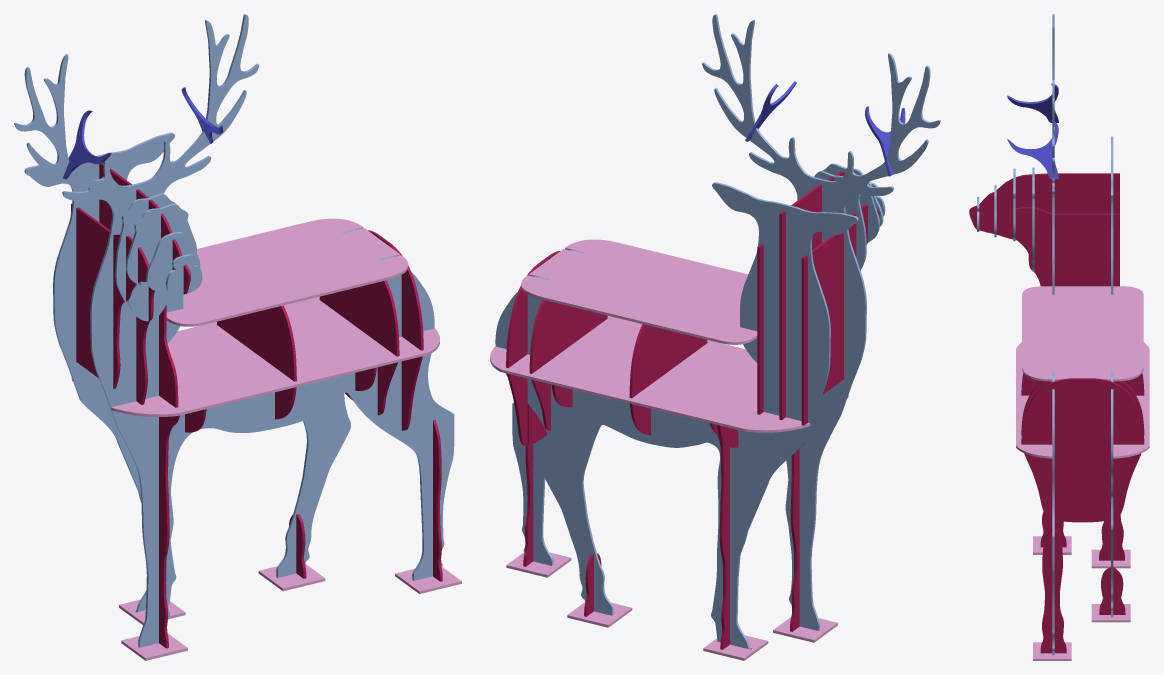
File: deertable.obj
3 renders of one model, left to right at view 1: azimuth 30°, elevation 25°; view 2: azimuth 150°, elevation 25°; view 3: azimuth 270°, elevation 25°, orthographic. The views are drawn at different scales.
Visible parts, largest first — view 1: Line402, Box015, Line410, Object005, Object002, Object004, Object001, Object006, Object003; view 2: Line402, Box015, Line410, Object005, Object004, Object002, Object001, Object006; view 3: Line410, Box015, Object002, Object006, Object001, Object005, Object003, Object004.
Boxes of the visible parts, box(x1,y1,x2,y2) form: Line402: box(15, 15, 454, 647); Box015: box(112, 218, 461, 658); Line410: box(71, 163, 440, 647); Object005: box(71, 163, 442, 648); Object002: box(14, 14, 451, 647); Object004: box(71, 227, 461, 660); Object001: box(24, 132, 357, 612); Object006: box(62, 89, 220, 178); Object003: box(115, 193, 198, 320); Line402: box(495, 15, 939, 648); Box015: box(490, 239, 837, 658); Line410: box(508, 173, 879, 649); Object005: box(506, 172, 867, 649); Object004: box(490, 248, 848, 660); Object002: box(542, 14, 940, 630); Object001: box(534, 182, 858, 649); Object006: box(747, 83, 905, 175); Line410: box(969, 174, 1144, 653); Box015: box(1016, 286, 1149, 658); Object002: box(1052, 14, 1054, 655); Object006: box(1007, 85, 1058, 179); Object001: box(1111, 136, 1113, 617); Object005: box(969, 173, 1144, 648); Object003: box(977, 167, 1034, 271); Object004: box(1016, 368, 1149, 660).
Size of the model in its own units: 1036 by 1383 by 465.
